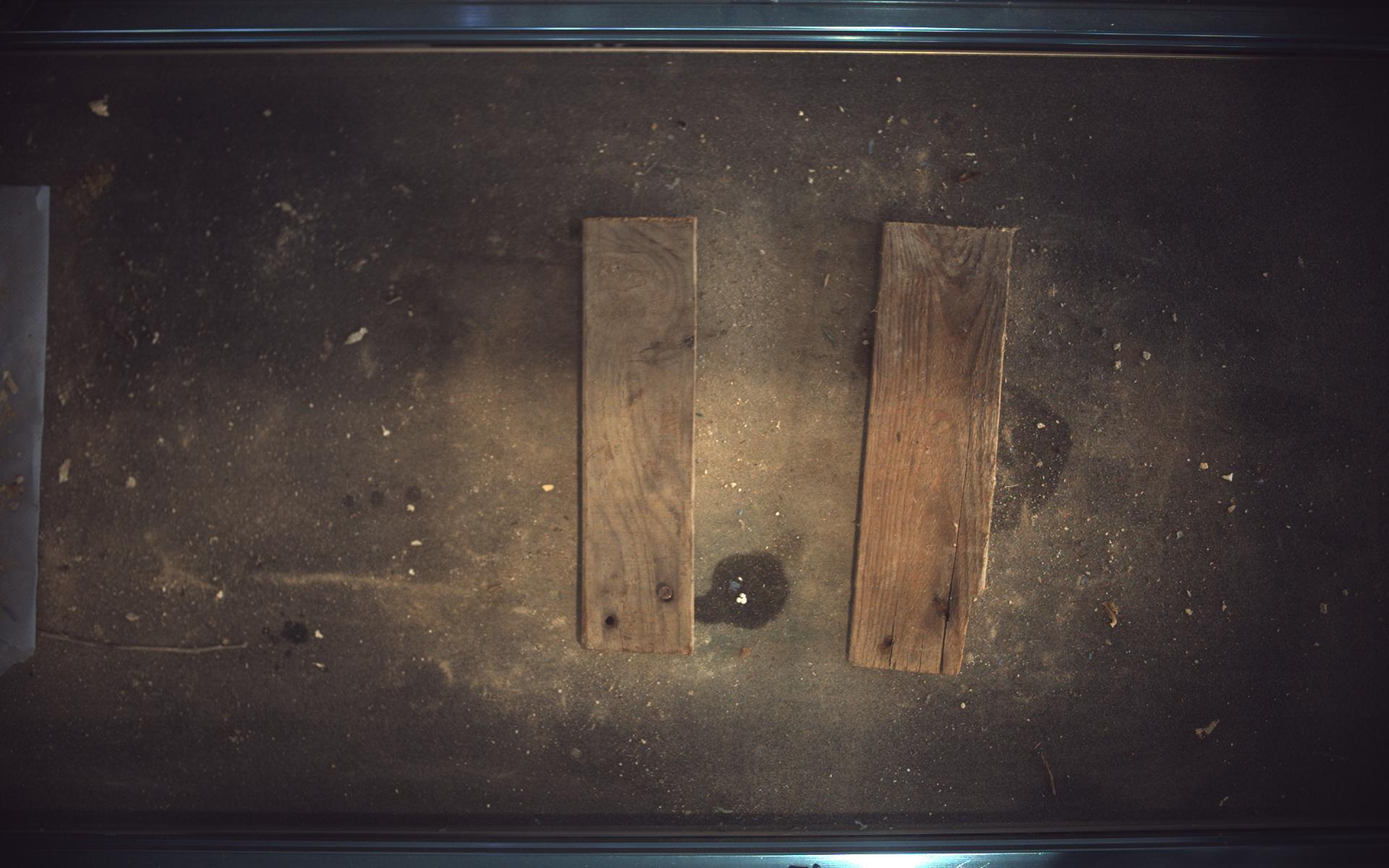wood: (851, 221, 1017, 676), (581, 216, 697, 655)
